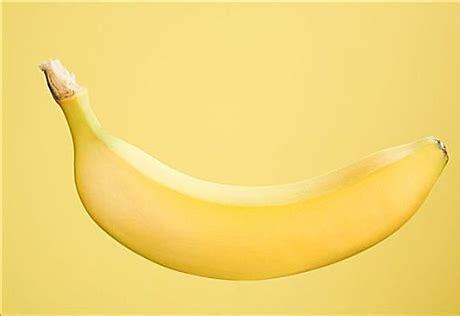banana: (40, 62, 449, 281)
